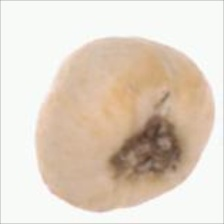L4: (34, 37, 214, 212)
